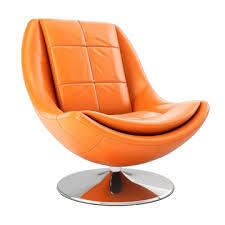chair: (19, 16, 211, 208)
